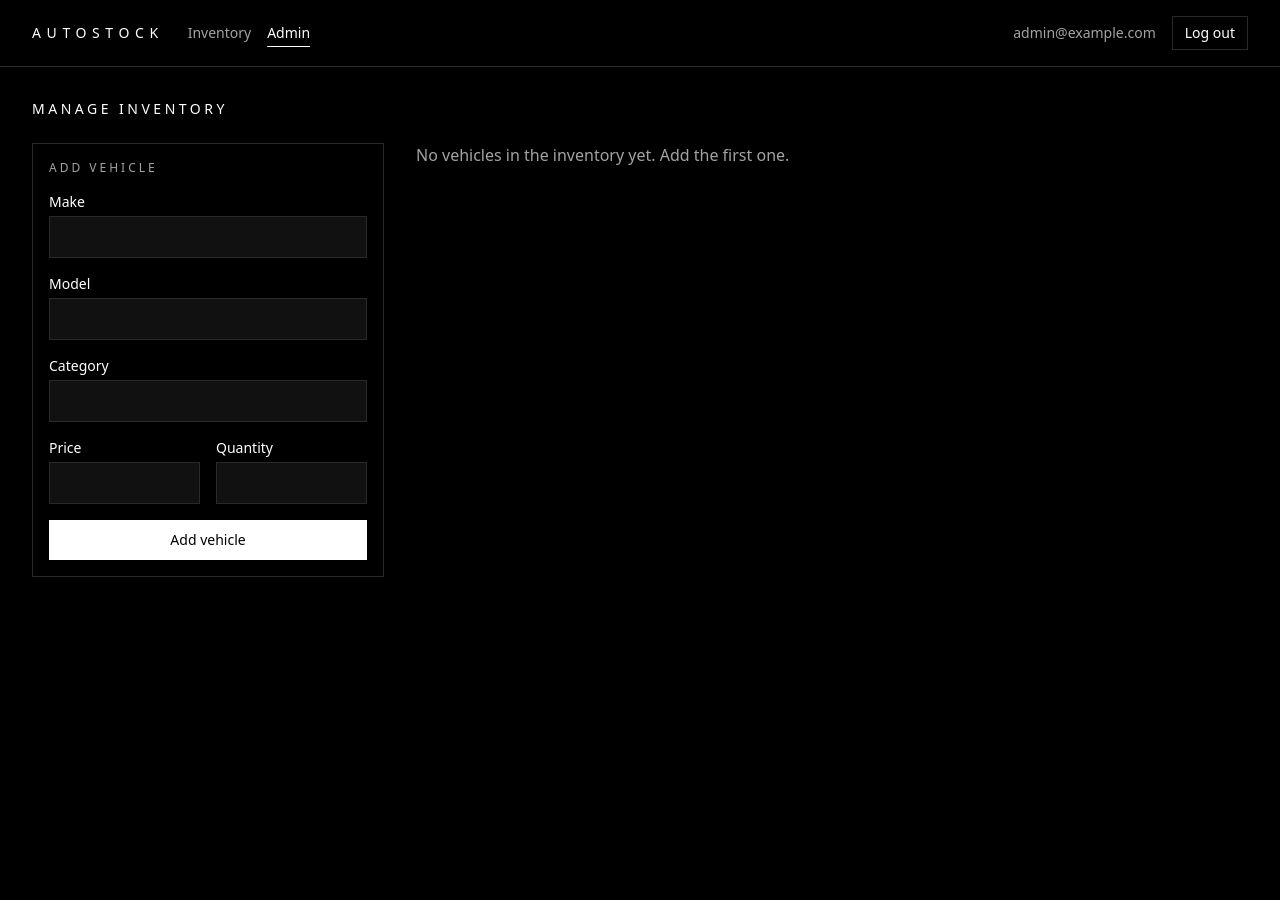
Test: Admin panel › the add form requires make, model and category
Expected: the text "No vehicles in the inventory yet. Add the first one." is shown, [416,144,789,166]
Type "100" into the field labelled "Price" at [124, 483], box [49,462,200,504]
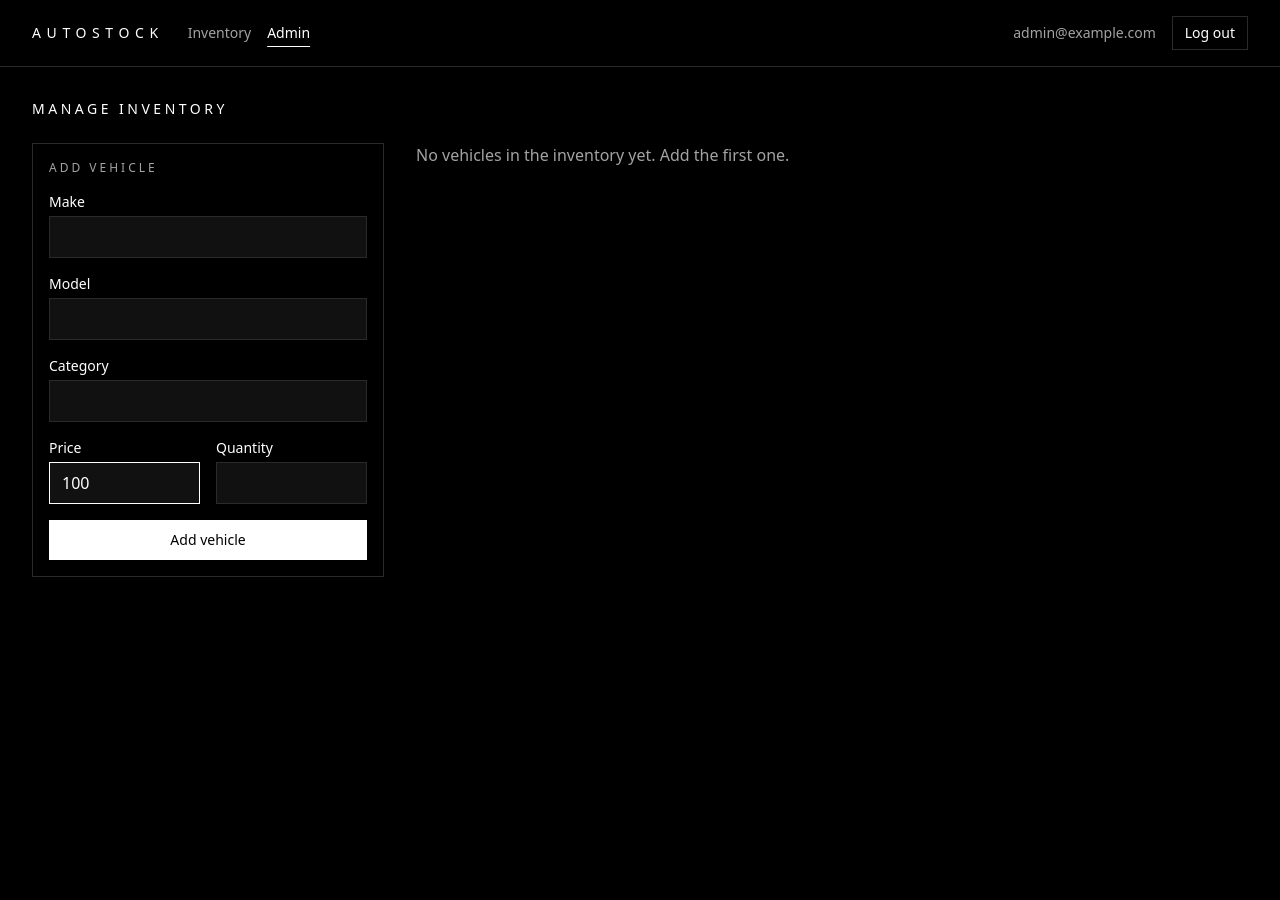
Type "1" into the field labelled "Quantity" at [292, 483], box [216,462,367,504]
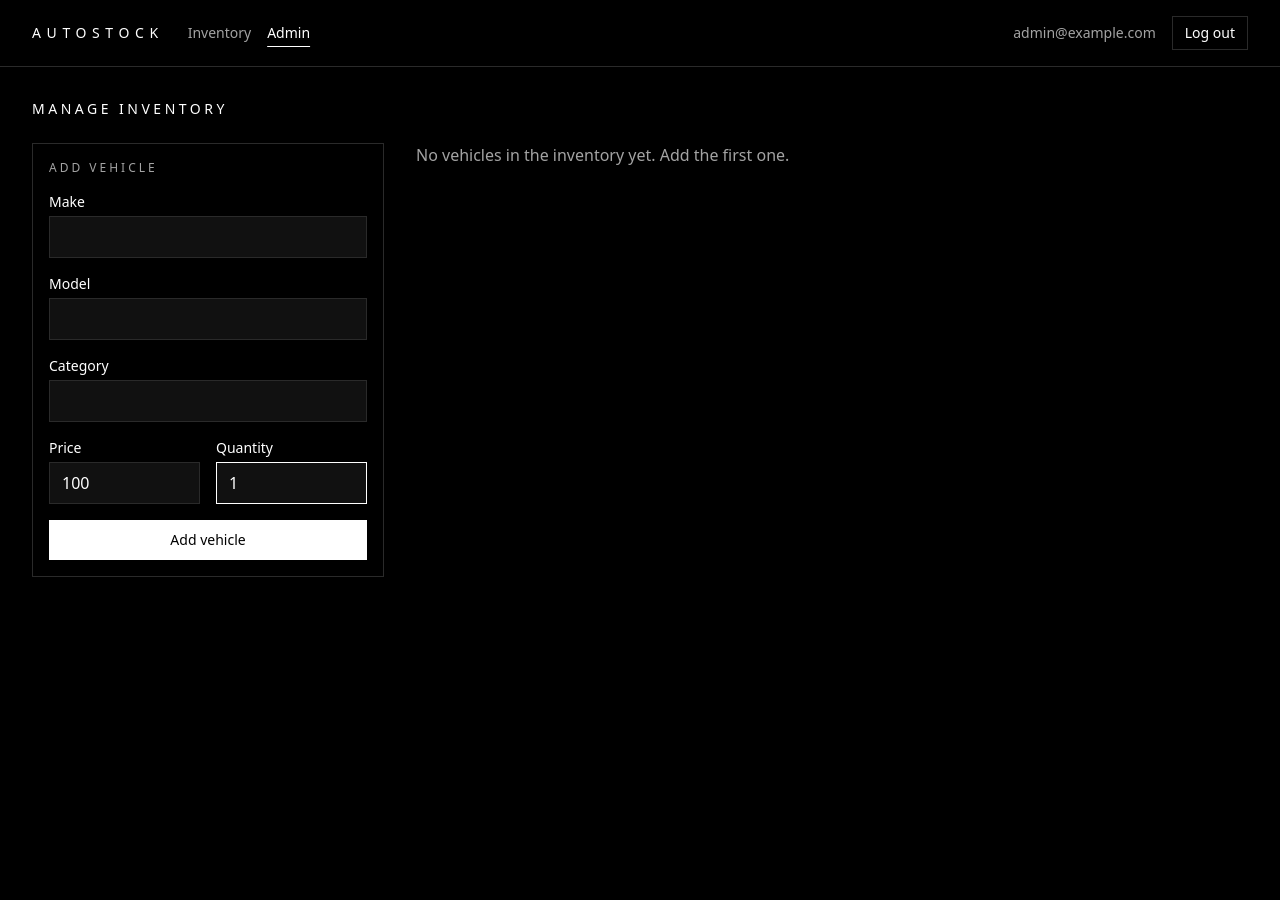
Click the button "Add vehicle" at [208, 540], box [49,520,367,560]
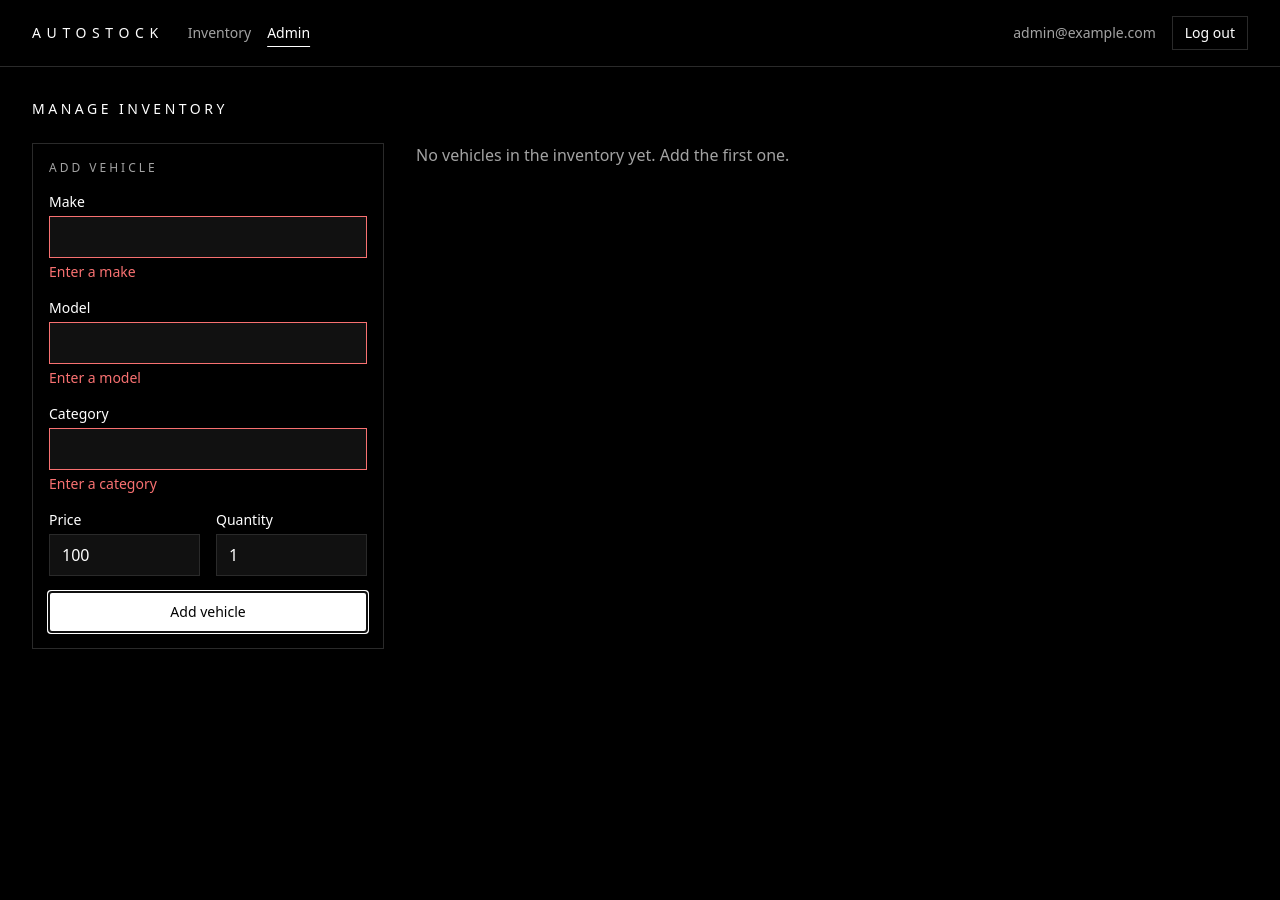
Expected: the text "Enter a make" is shown, [49,262,136,281]
Expected: the text "Enter a model" is shown, [49,368,141,387]
Expected: the text "Enter a category" is shown, [49,474,157,493]
